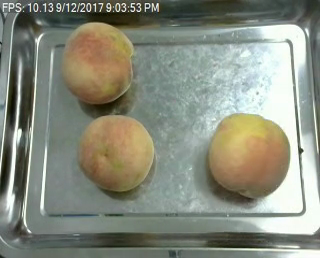Peach: (207, 112, 291, 198), (61, 21, 134, 104), (79, 113, 155, 190)
